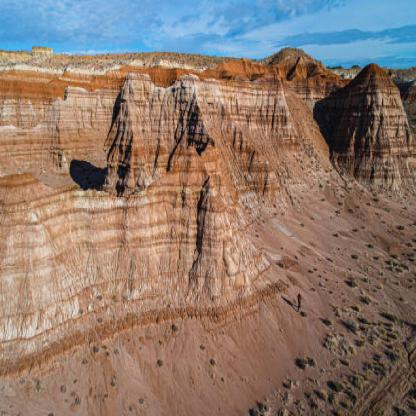Sedimentary_Sandstone: (3, 207, 182, 303), (329, 74, 413, 185), (189, 78, 301, 158), (2, 83, 101, 173), (104, 78, 179, 182), (197, 176, 250, 294), (271, 42, 329, 94)
